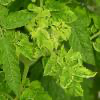Tomato leaf yellow virus: (0, 33, 25, 96), (0, 8, 43, 29), (47, 9, 78, 24), (18, 39, 37, 63), (71, 65, 100, 79), (57, 70, 74, 92), (42, 55, 57, 78), (69, 78, 86, 96), (64, 57, 83, 69), (35, 33, 46, 49), (45, 38, 57, 50), (59, 33, 68, 41), (64, 29, 70, 37)
